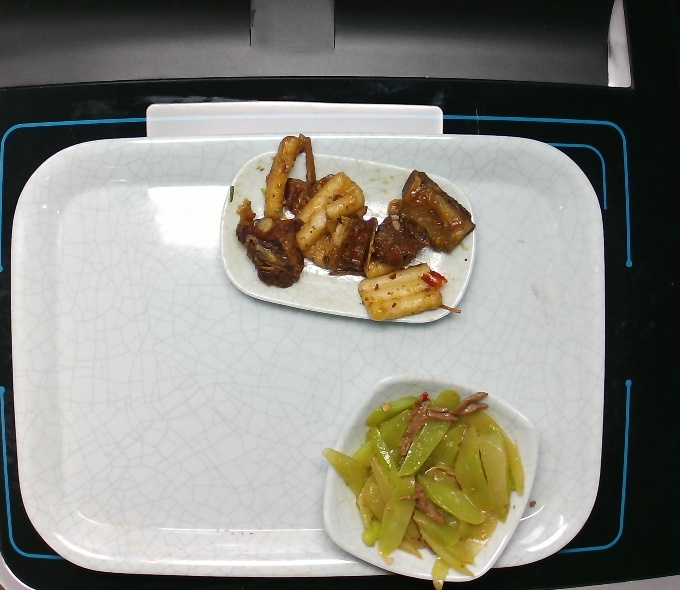wcq-NianGaoZaiPai: (234, 131, 478, 323)
wcq-WoSun: (320, 385, 525, 590)
